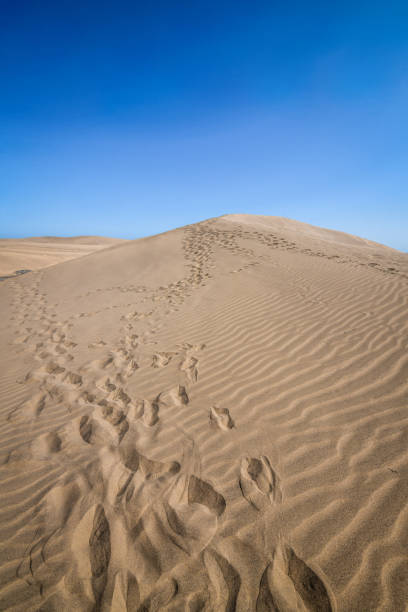human_foot_print: (42, 416, 224, 608), (256, 539, 334, 611), (239, 455, 281, 509), (180, 343, 205, 382), (210, 405, 234, 430)
